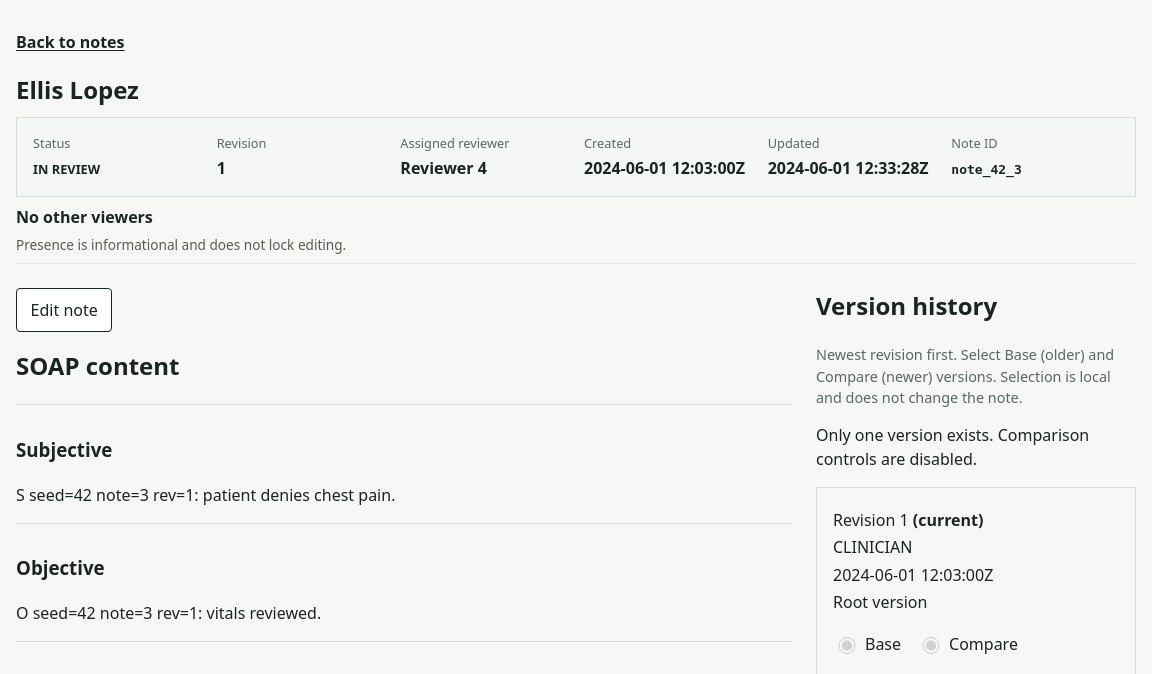
Test: SoapEditor UI › 42–47: read-only first; Edit note opens four labelled textareas with content
The width and height of the screenshot is (1152, 674).
Expected: the heading "SOAP content" is shown, [16,349,180,382]
Click the button "Edit note": (64, 310) [16,288,112,332]
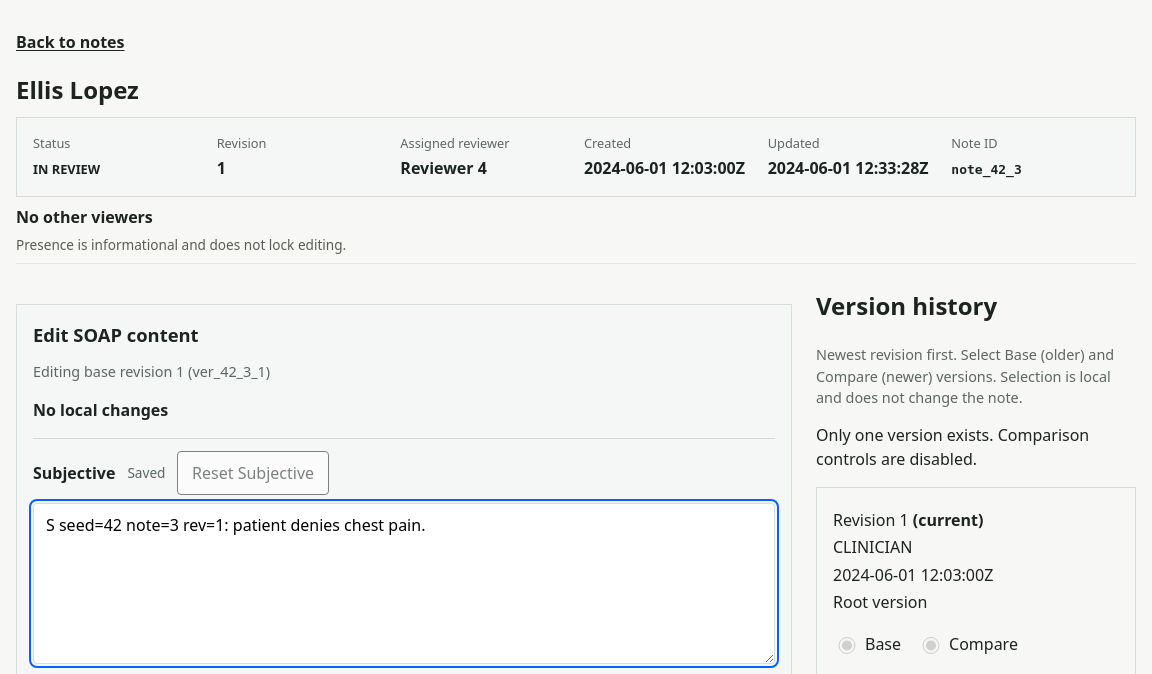
Result: the message with test id "soap-editor-save-label" reads "No local changes" at [33,399,168,421]
